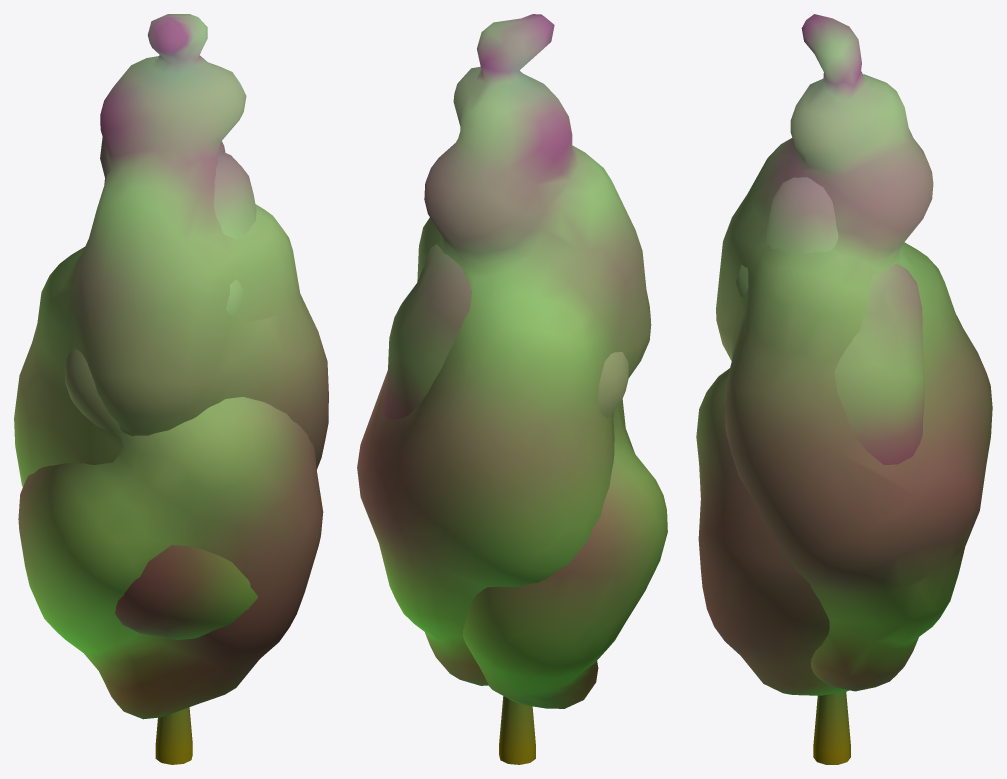
File: columnar.glb
3 renders of one model, left to right at view 1: azimuth 30°, elevation 25°; view 2: azimuth 150°, elevation 25°; view 3: azimuth 270°, elevation 25°, orthographic.
Parts seen in each view (by area): view 1: columnar_0_lod0, columnar_1_lod0; view 2: columnar_0_lod0, columnar_1_lod0; view 3: columnar_0_lod0, columnar_1_lod0.
Part boxes in pixels (x1=…): columnar_0_lod0: x1=14, y1=14, x2=328, y2=764; columnar_1_lod0: x1=18, y1=151, x2=323, y2=719; columnar_0_lod0: x1=357, y1=14, x2=651, y2=764; columnar_1_lod0: x1=383, y1=244, x2=667, y2=708; columnar_0_lod0: x1=716, y1=14, x2=992, y2=764; columnar_1_lod0: x1=696, y1=177, x2=924, y2=695.
Size of what is drawn, in the model's own units: 6.98 by 17.98 by 6.57.
